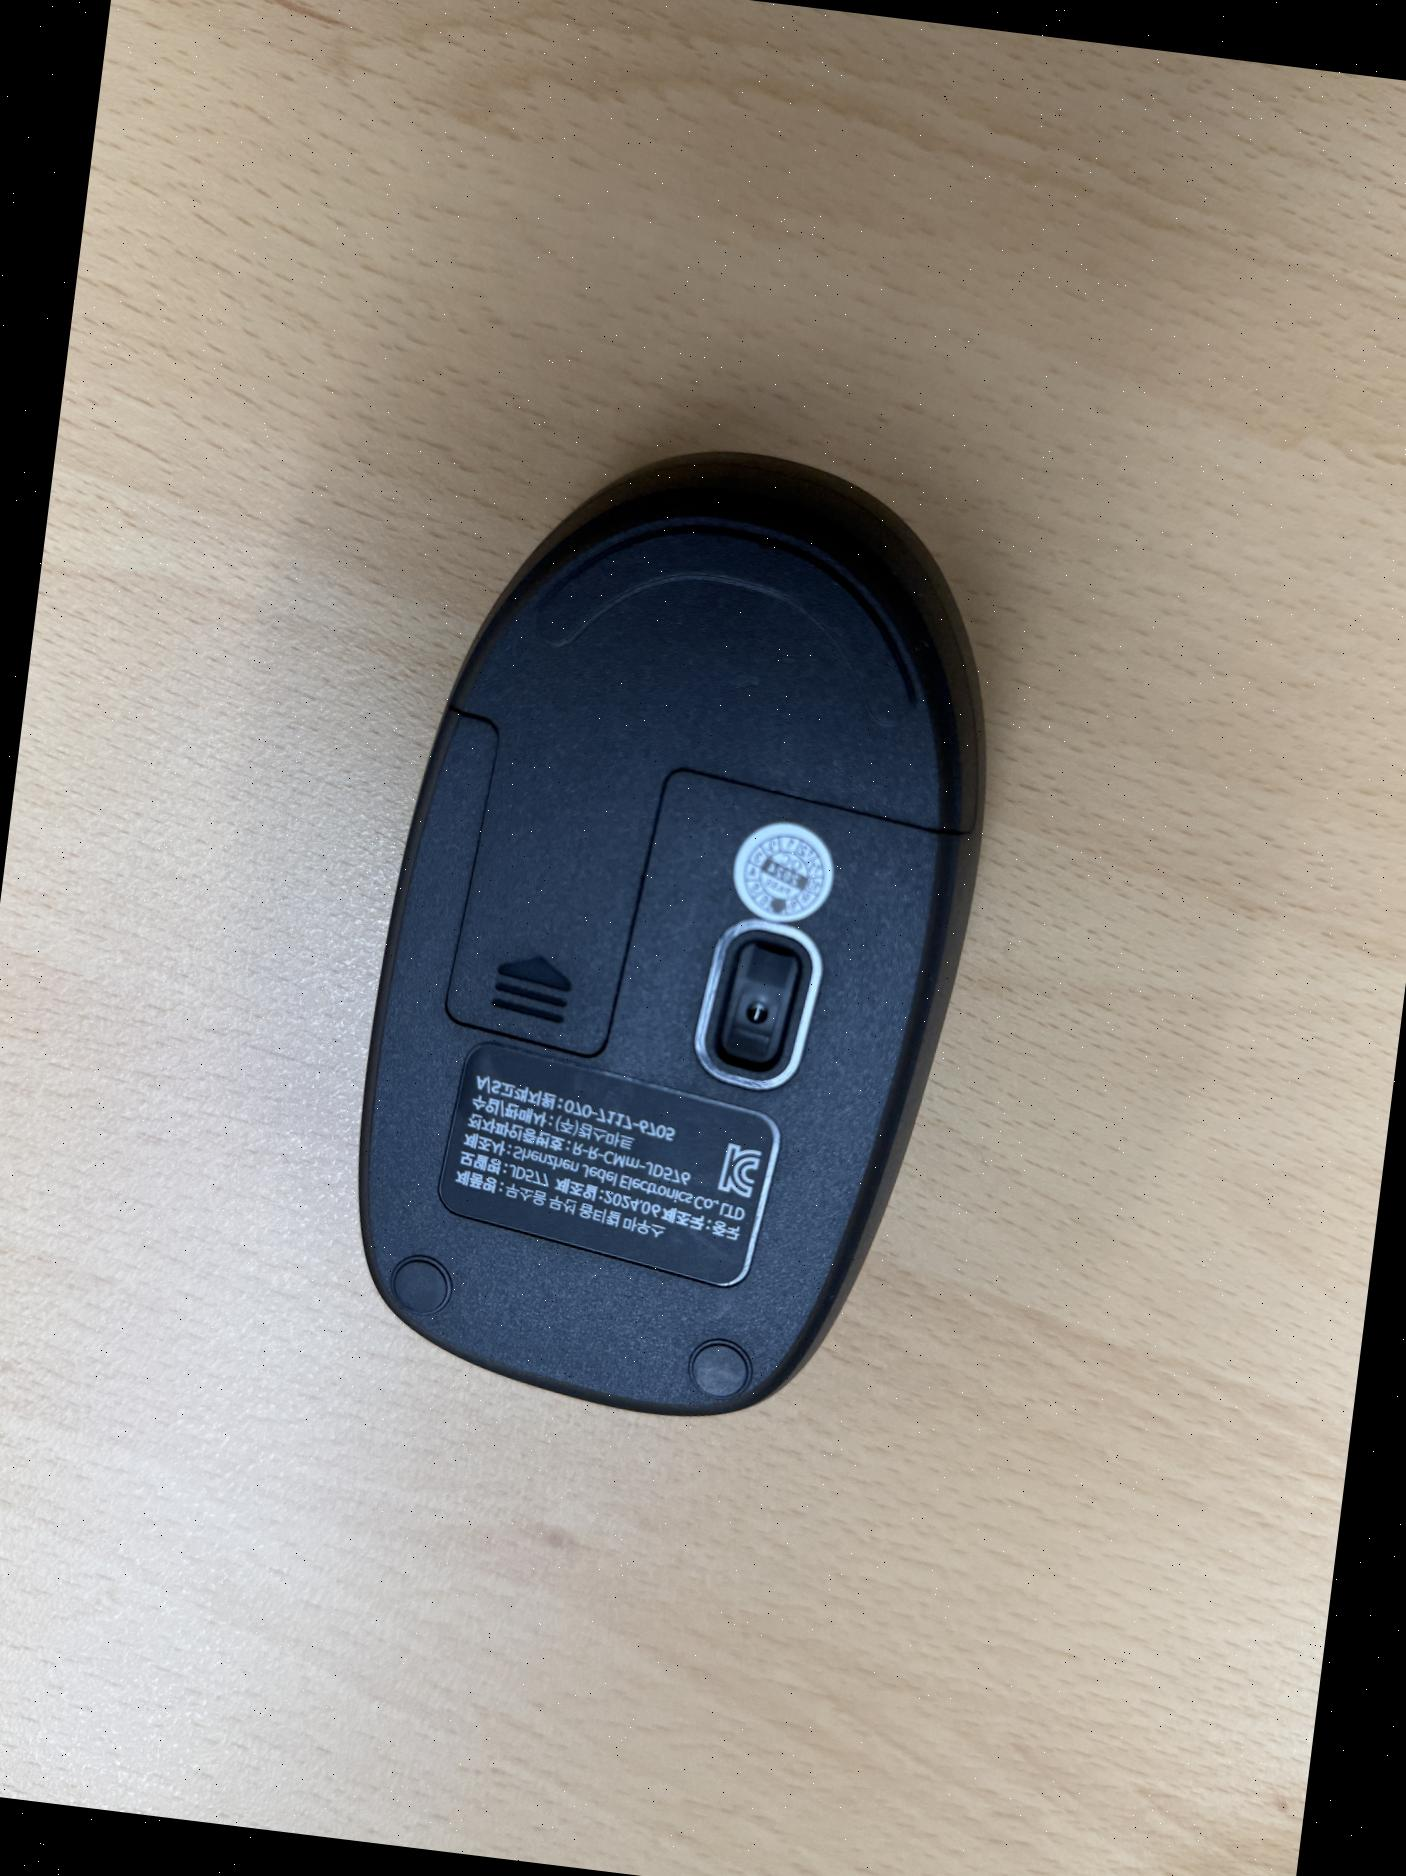back: (323, 400, 1032, 1445)
